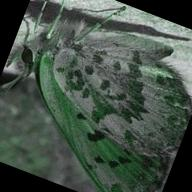butterfly: (7, 19, 192, 192)
